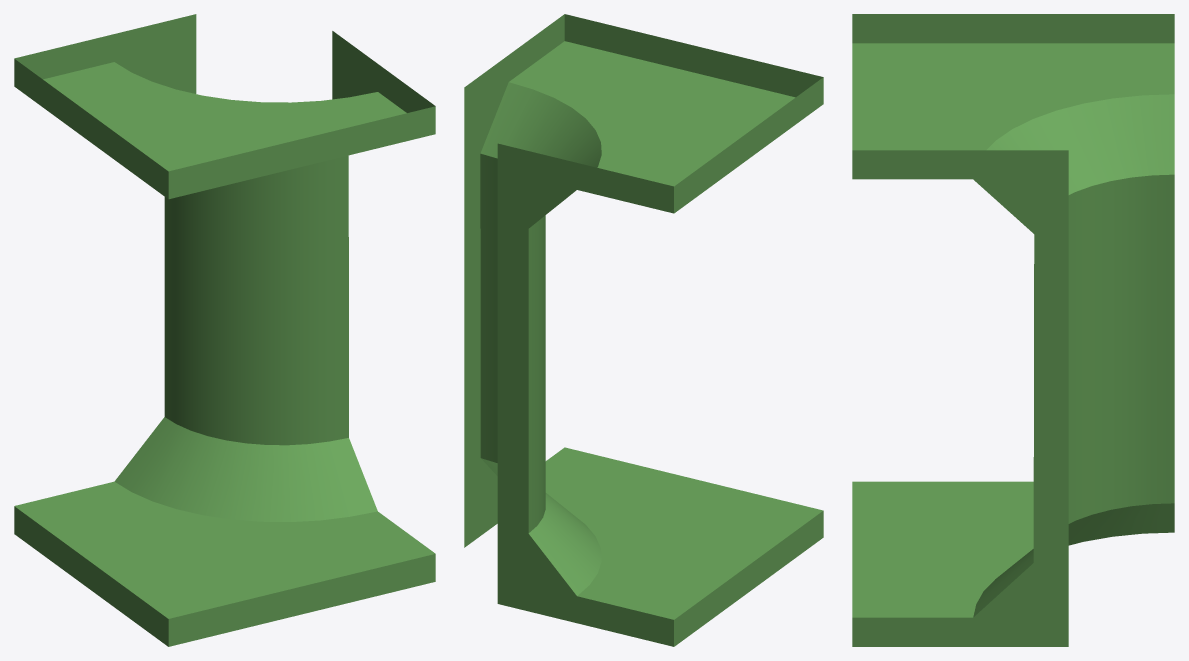
File: CLow_Wall_A_ConerOut.FBX
3 renders of one model, left to right at view 1: azimuth 30°, elevation 25°; view 2: azimuth 150°, elevation 25°; view 3: azimuth 270°, elevation 25°, orthographic. The views are drawn at different scales.
Visible parts, largest first — view 1: CLow_Wall_A_ConerOut; view 2: CLow_Wall_A_ConerOut; view 3: CLow_Wall_A_ConerOut.
Boxes of the visible parts, <box> form: CLow_Wall_A_ConerOut: <box>14,14,435,646</box>; CLow_Wall_A_ConerOut: <box>464,14,823,646</box>; CLow_Wall_A_ConerOut: <box>852,14,1174,646</box>.
Bounding box in the file's own units: 200 × 340 × 200.
